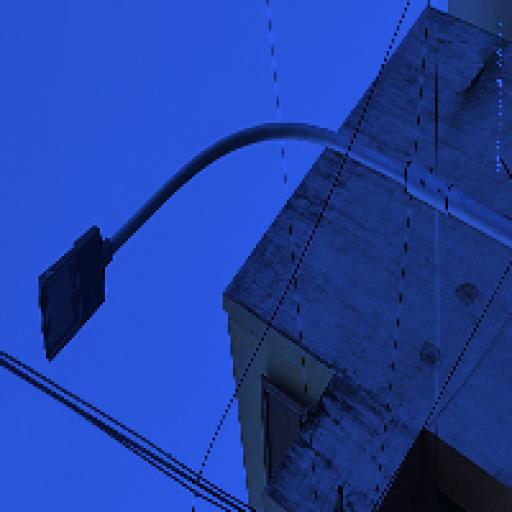Not Working: (27, 216, 129, 371)
